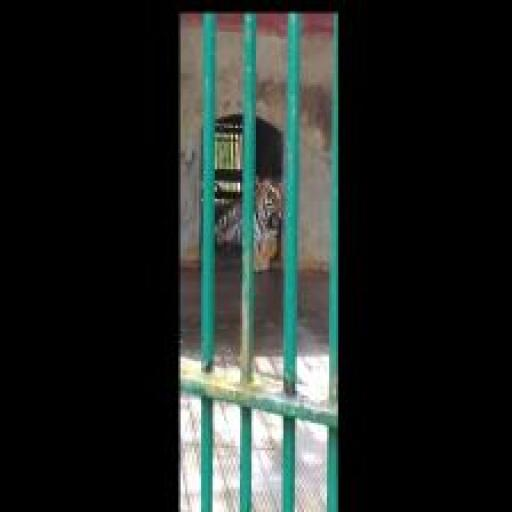Tiger: (215, 172, 284, 281)
